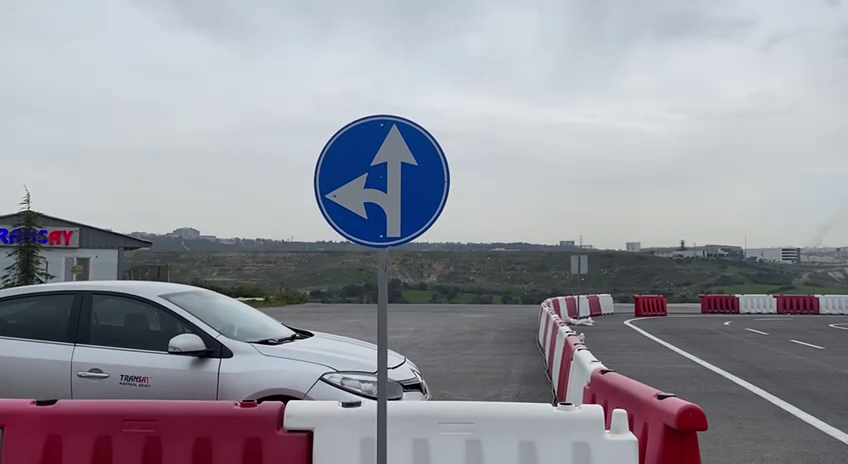forwardAndLeft: (309, 108, 453, 252)
